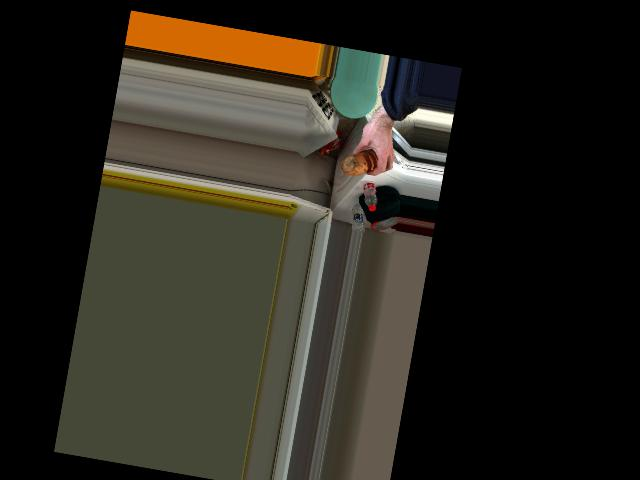sweet_potato: (346, 145, 381, 180)
